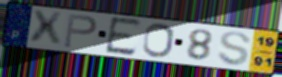8: (186, 28, 215, 62)
E: (104, 15, 144, 58)
O: (141, 22, 175, 59)
P: (62, 13, 99, 49)
S: (215, 30, 252, 67)
X: (29, 9, 64, 48)
